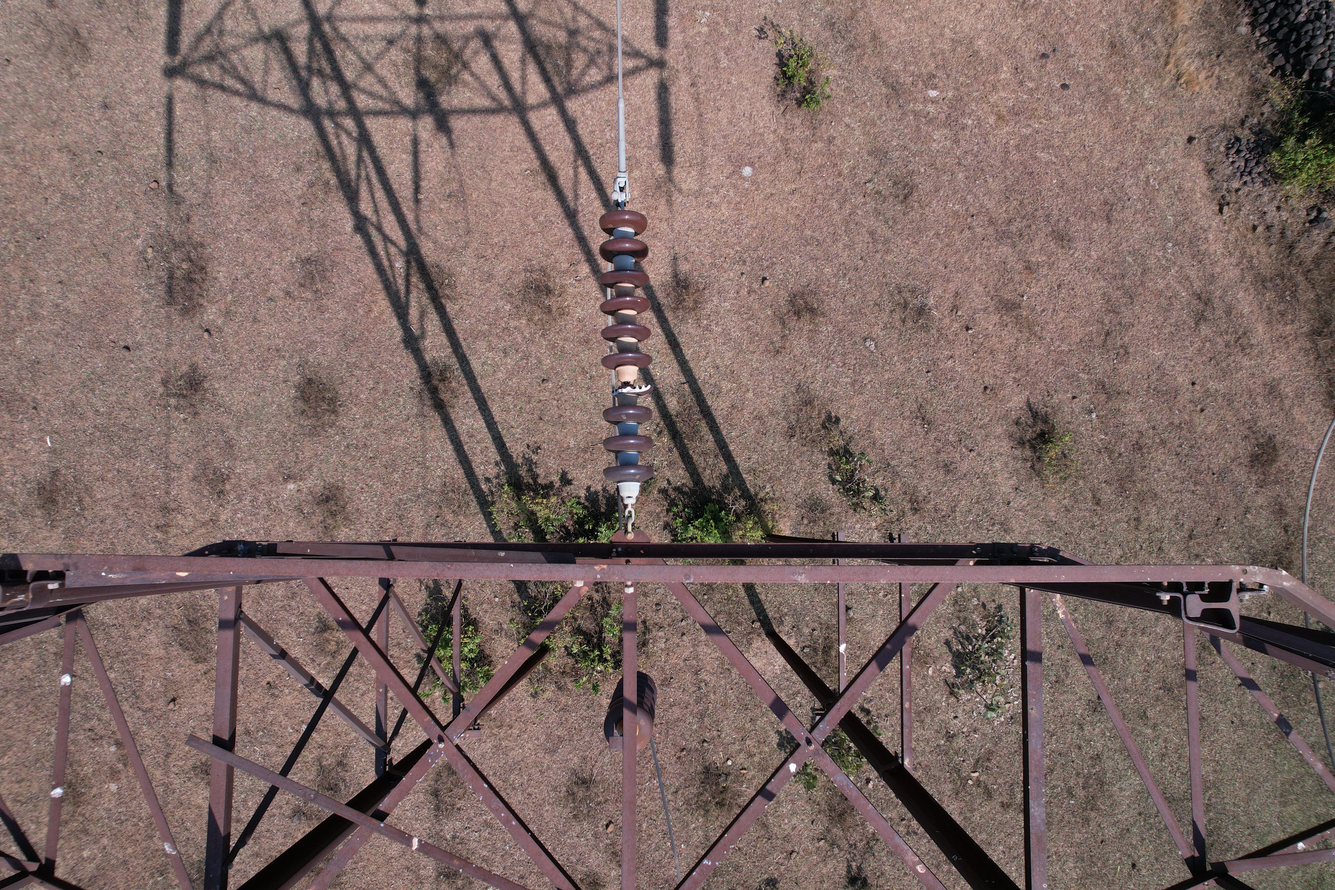broken_insulator: (603, 383, 654, 398)
